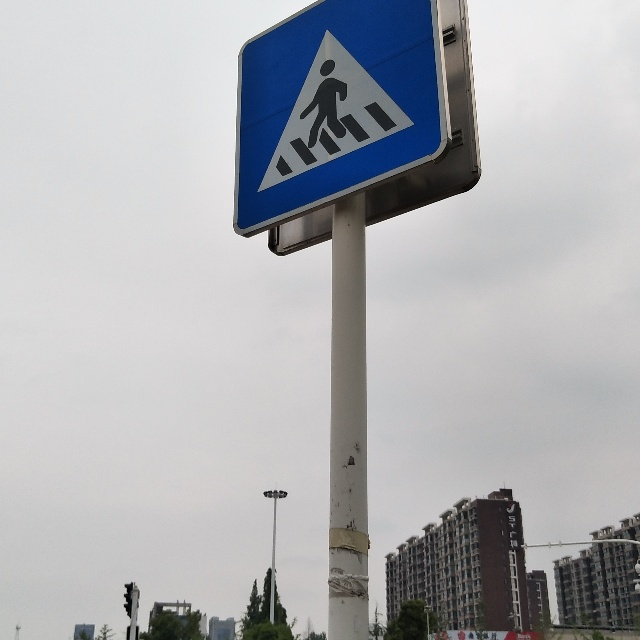crosswalk: (251, 31, 428, 194)
